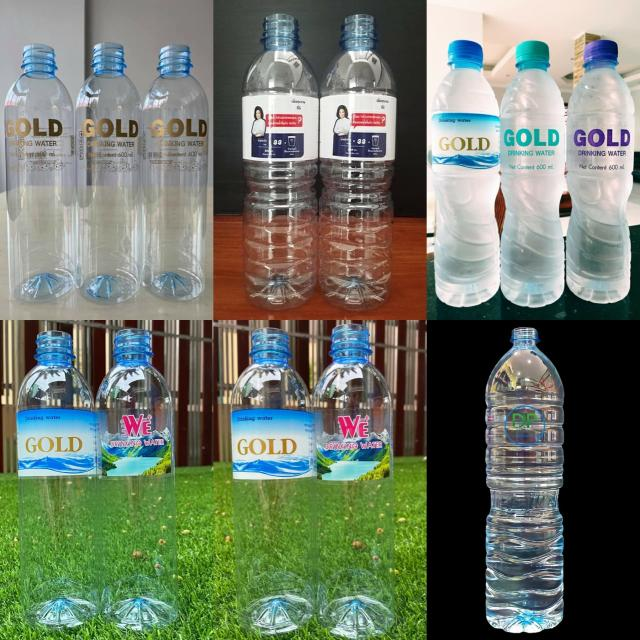plastik: (312, 324, 395, 639), (231, 328, 315, 635), (95, 329, 178, 631), (16, 330, 99, 629), (486, 328, 564, 633), (242, 14, 319, 309), (319, 15, 396, 310), (431, 40, 500, 306), (566, 40, 635, 303), (5, 45, 75, 302), (141, 45, 209, 300), (500, 41, 565, 307), (75, 43, 141, 302)
